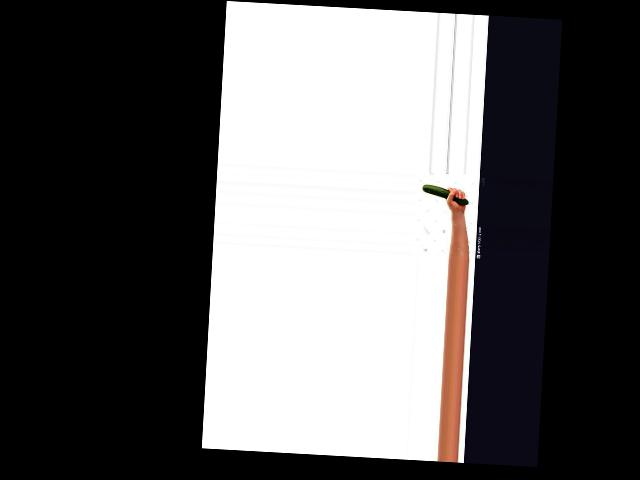cucumber: (422, 183, 469, 204)
